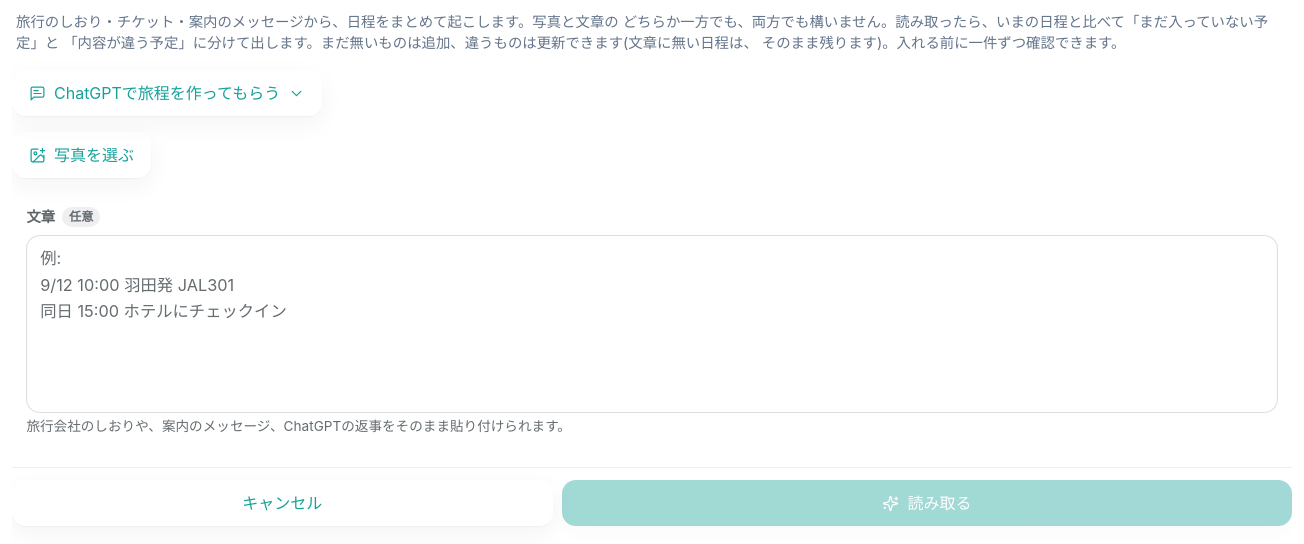
Scenario: 写真・文章から日程を読み取る画面 › 同じ内容が既に日程にあれば入れない
This screenshot has width=1304, height=544.
Type "9/12 10:00 羽田発" into the text box with placeholder "例: 9/12 10:00 羽田発 JAL301 同日 15:00 ホテルにチェックイン". click: (652, 324)
box: [26,234,1278,413]
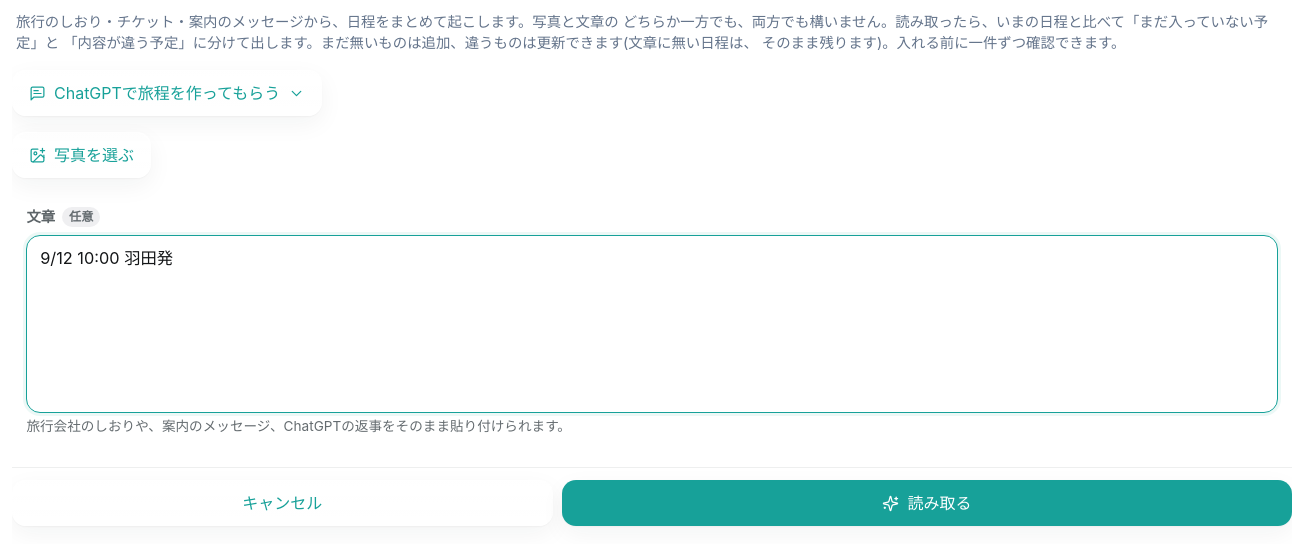
Click the button "読み取る". click: (927, 502)
box: [562,480,1292,526]
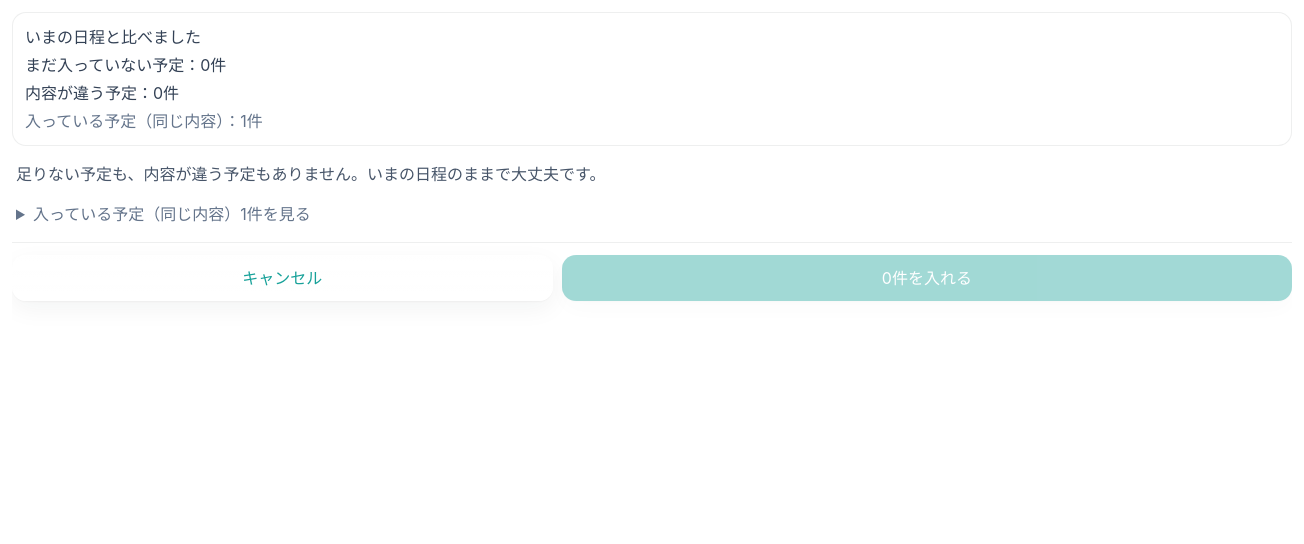
Expected: the button "0件を入れる" is disabled, [562,255,1292,301]
